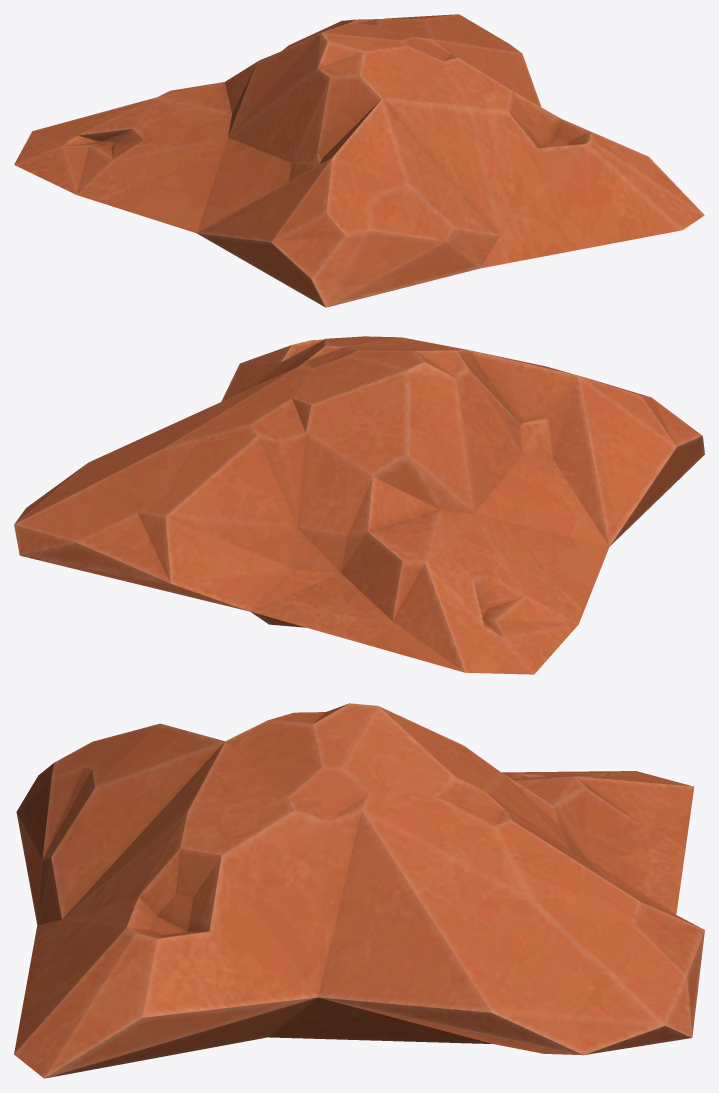
The model's file is CopperJunkCast_Polished.glb.
3 renders of one model, top to bottom at view 1: azimuth 30°, elevation 25°; view 2: azimuth 150°, elevation 25°; view 3: azimuth 270°, elevation 25°, orthographic. The views are drawn at different scales.
Visible parts, largest first — view 1: CopperJunkCast_Polished; view 2: CopperJunkCast_Polished; view 3: CopperJunkCast_Polished.
Part boxes in pixels (<box>): CopperJunkCast_Polished: <box>14,14,704,307</box>; CopperJunkCast_Polished: <box>14,336,704,674</box>; CopperJunkCast_Polished: <box>14,703,704,1078</box>.
Size of the model in its own units: 0.5571 by 0.1926 by 0.5258.
Materials: 1 (1 with a texture image).
